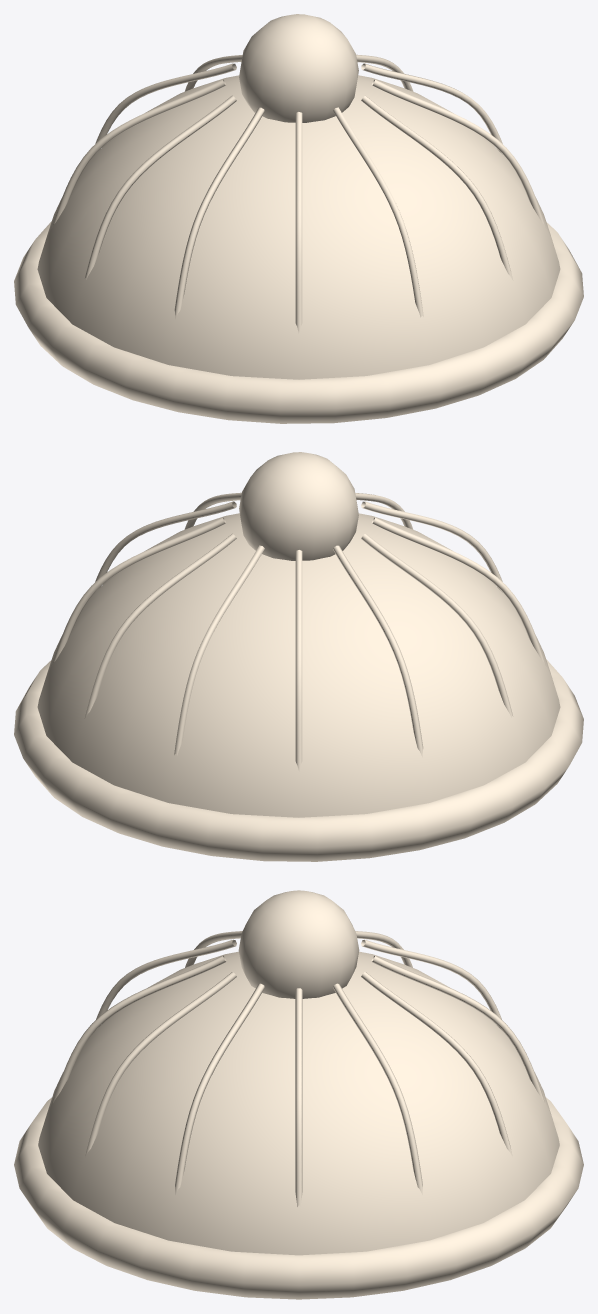
Rendered from beanie_cloud.glb.
3 views of the same model, one above another, from view 1: azimuth 30°, elevation 25°; view 2: azimuth 150°, elevation 25°; view 3: azimuth 270°, elevation 25° (orthographic).
Parts seen in each view (by area): view 1: Gorro nube; view 2: Gorro nube; view 3: Gorro nube.
Part boxes in pixels (x1,y1,x2,y2): Gorro nube: [14, 14, 583, 423]; Gorro nube: [14, 452, 583, 861]; Gorro nube: [14, 890, 583, 1299].
Size of the model in its own units: 0.614 by 0.3434 by 0.614.
